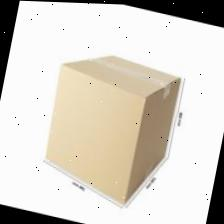cardboard: (25, 22, 221, 218)
